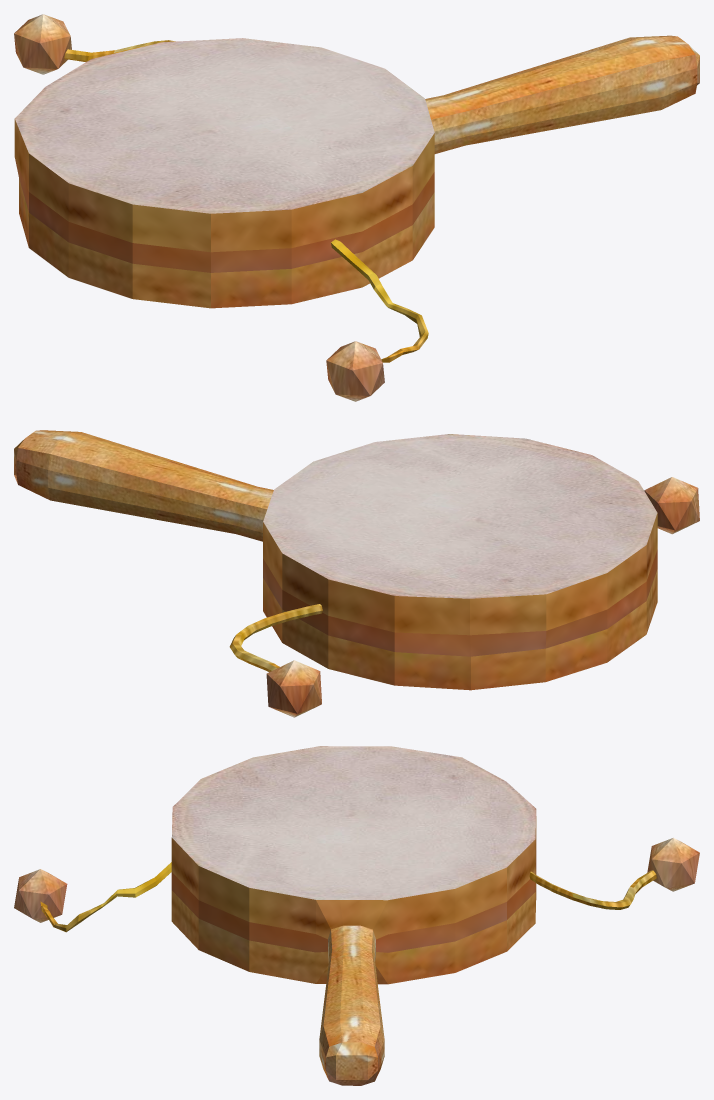
Rendered from instrument.fbx.
3 renders of one model, top to bottom at view 1: azimuth 30°, elevation 25°; view 2: azimuth 150°, elevation 25°; view 3: azimuth 270°, elevation 25°, orthographic. The views are drawn at different scales.
Visible parts, largest first — view 1: Tambourin; view 2: Tambourin; view 3: Tambourin.
Part boxes in pixels (x1,y1,x2,y2): Tambourin: (14, 14, 699, 401); Tambourin: (14, 430, 699, 717); Tambourin: (14, 746, 699, 1085).
Bounding box in the file's own units: 91.97 × 18.58 × 95.86.
Materials: 1 (1 with a texture image).
